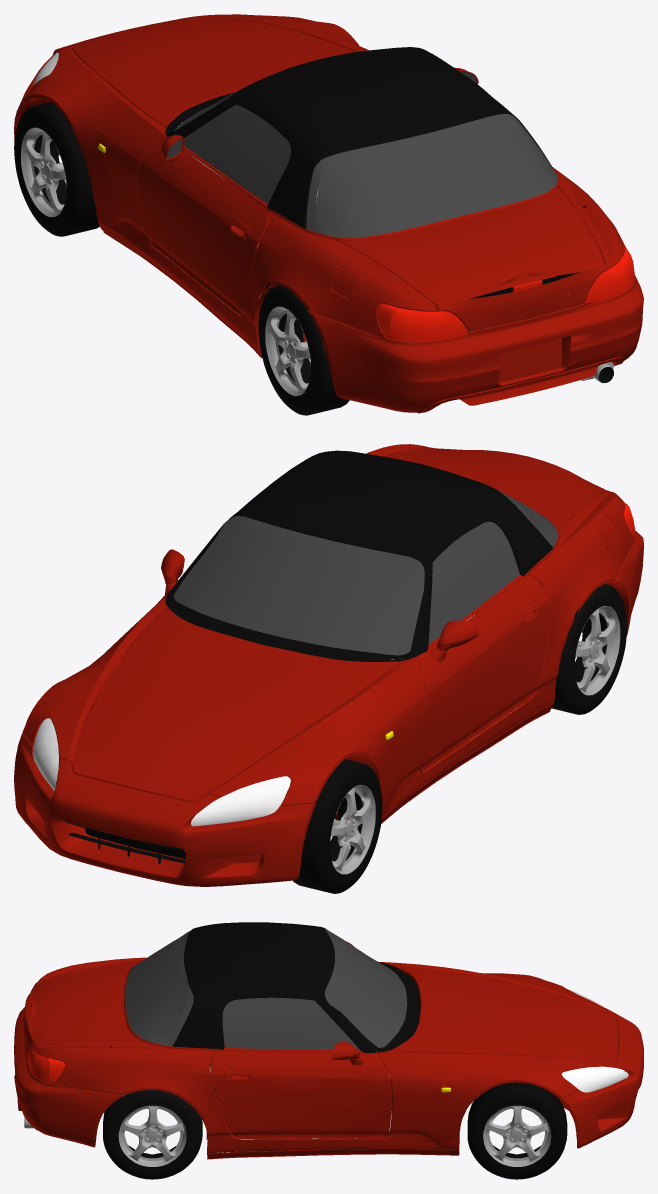
3 renders of one model, top to bottom at view 1: azimuth 30°, elevation 25°; view 2: azimuth 150°, elevation 25°; view 3: azimuth 270°, elevation 25°, orthographic. The views are drawn at different scales.
Visible parts, largest first — view 1: Honda S2000, Wheels.001, Wheels; view 2: Honda S2000, Wheels.001, Wheels; view 3: Honda S2000, Wheels.001, Wheels.
Part boxes in pixels (x1,y1,x2,y2): Honda S2000: (14, 14, 643, 413); Wheels.001: (14, 102, 99, 236); Wheels: (258, 285, 349, 415); Honda S2000: (14, 444, 643, 886); Wheels.001: (14, 759, 382, 893); Wheels: (552, 584, 626, 714); Honda S2000: (14, 922, 643, 1159); Wheels.001: (467, 1082, 567, 1179); Wheels: (103, 1089, 202, 1179).
Bounding box in the file's own units: 678 × 489 × 1586.
Materials: 2 (1 with a texture image).
